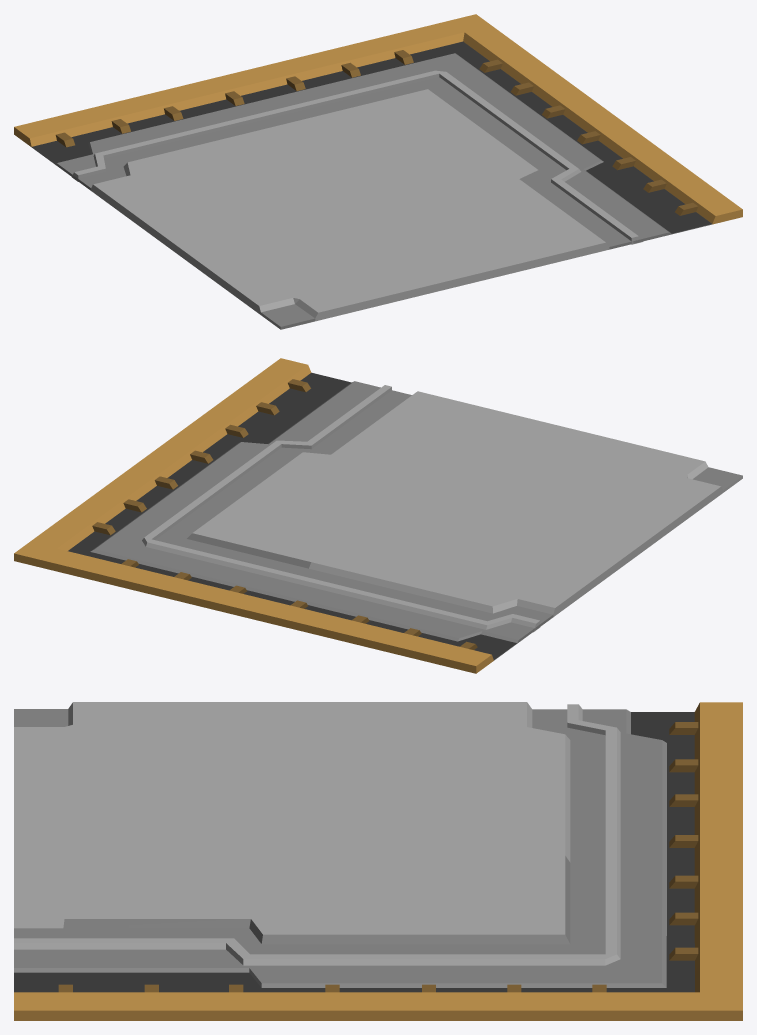
Rendered from Cieling_Corner.fbx.
3 renders of one model, top to bottom at view 1: azimuth 30°, elevation 25°; view 2: azimuth 150°, elevation 25°; view 3: azimuth 270°, elevation 25°, orthographic. The views are drawn at different scales.
Visible parts, largest first — view 1: Cieling_Corner; view 2: Cieling_Corner; view 3: Cieling_Corner.
Boxes of the visible parts, box(x1,y1,x2,y2) form: Cieling_Corner: box(14, 14, 742, 329); Cieling_Corner: box(14, 358, 742, 673); Cieling_Corner: box(14, 702, 742, 1020).
Bounding box in the file's own units: 251 × 6.15 × 251.
